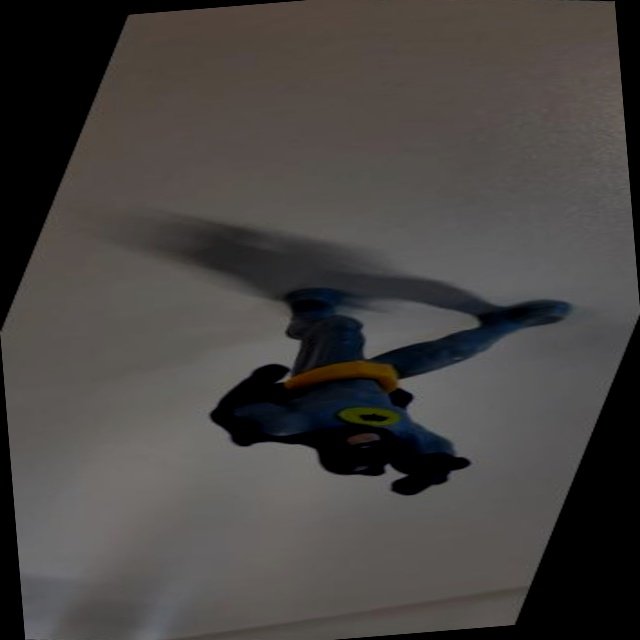Batman: (79, 207, 618, 545)
